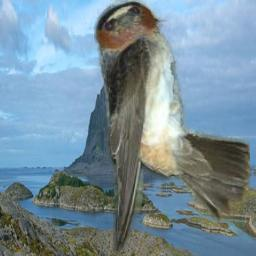Swallow: (94, 0, 250, 256)
